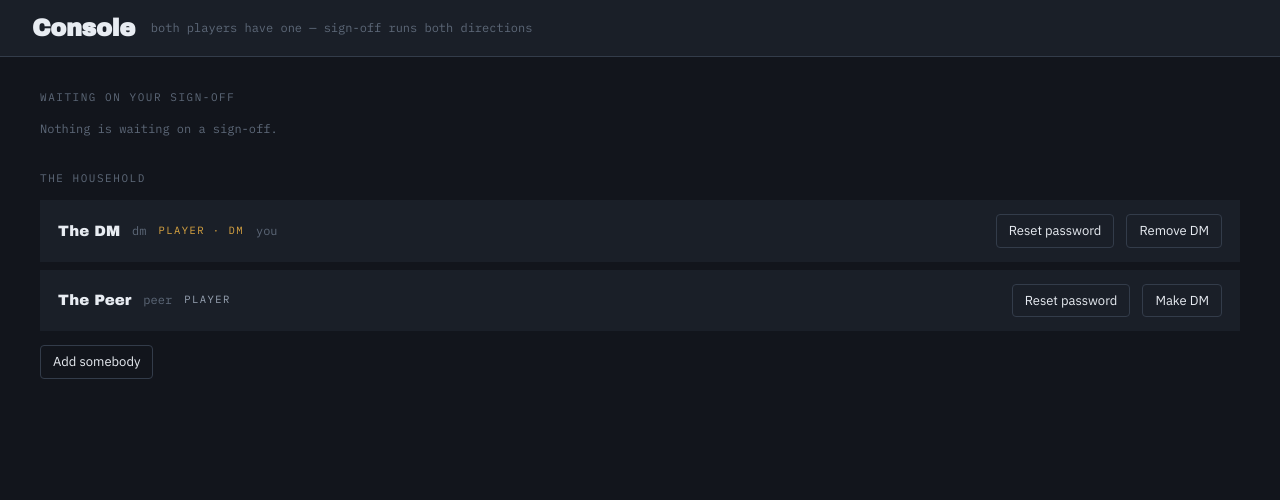
the three acts › warns that a reset signs that player out, before it is pressed
Expected: the heading "Console" is shown, [32,10,135,46]
What coordinates should you click on to do the following:
click the button "Reset password" in the row of "The Peer"
I would click on:
 (1071, 300)
Its box is [1012,284,1130,317].
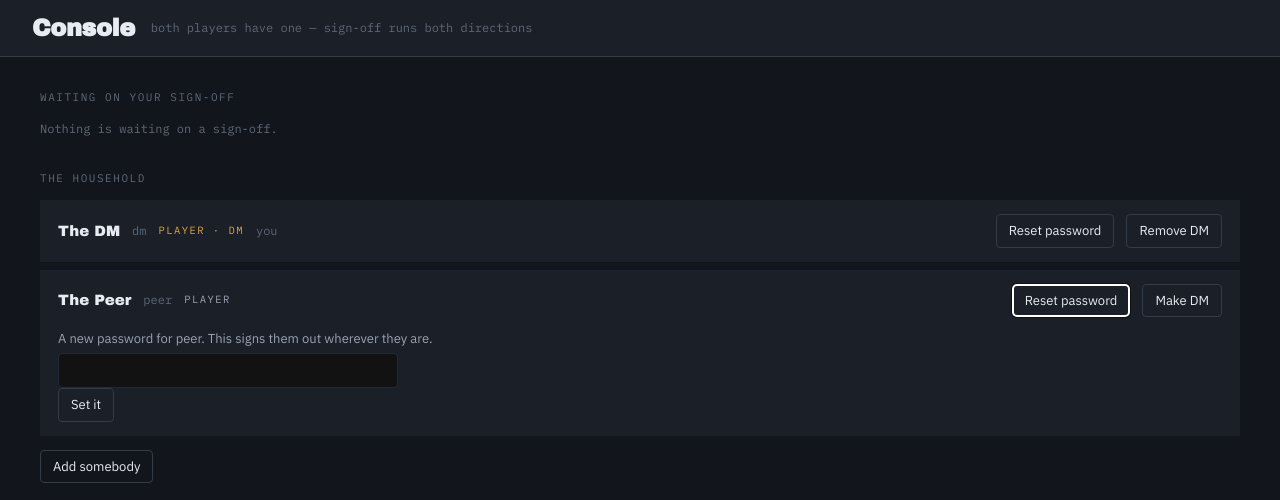
Expected: the text "signs them out wherever they are" is shown, [58,330,432,347]
